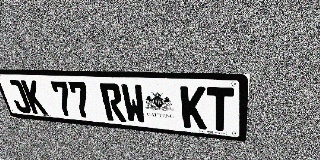7: (49, 81, 77, 118), (67, 82, 95, 119)
J: (5, 79, 33, 113)
K: (180, 86, 207, 130), (20, 80, 48, 115)
R: (99, 83, 126, 122)
T: (207, 87, 234, 132)
W: (120, 84, 147, 124)
